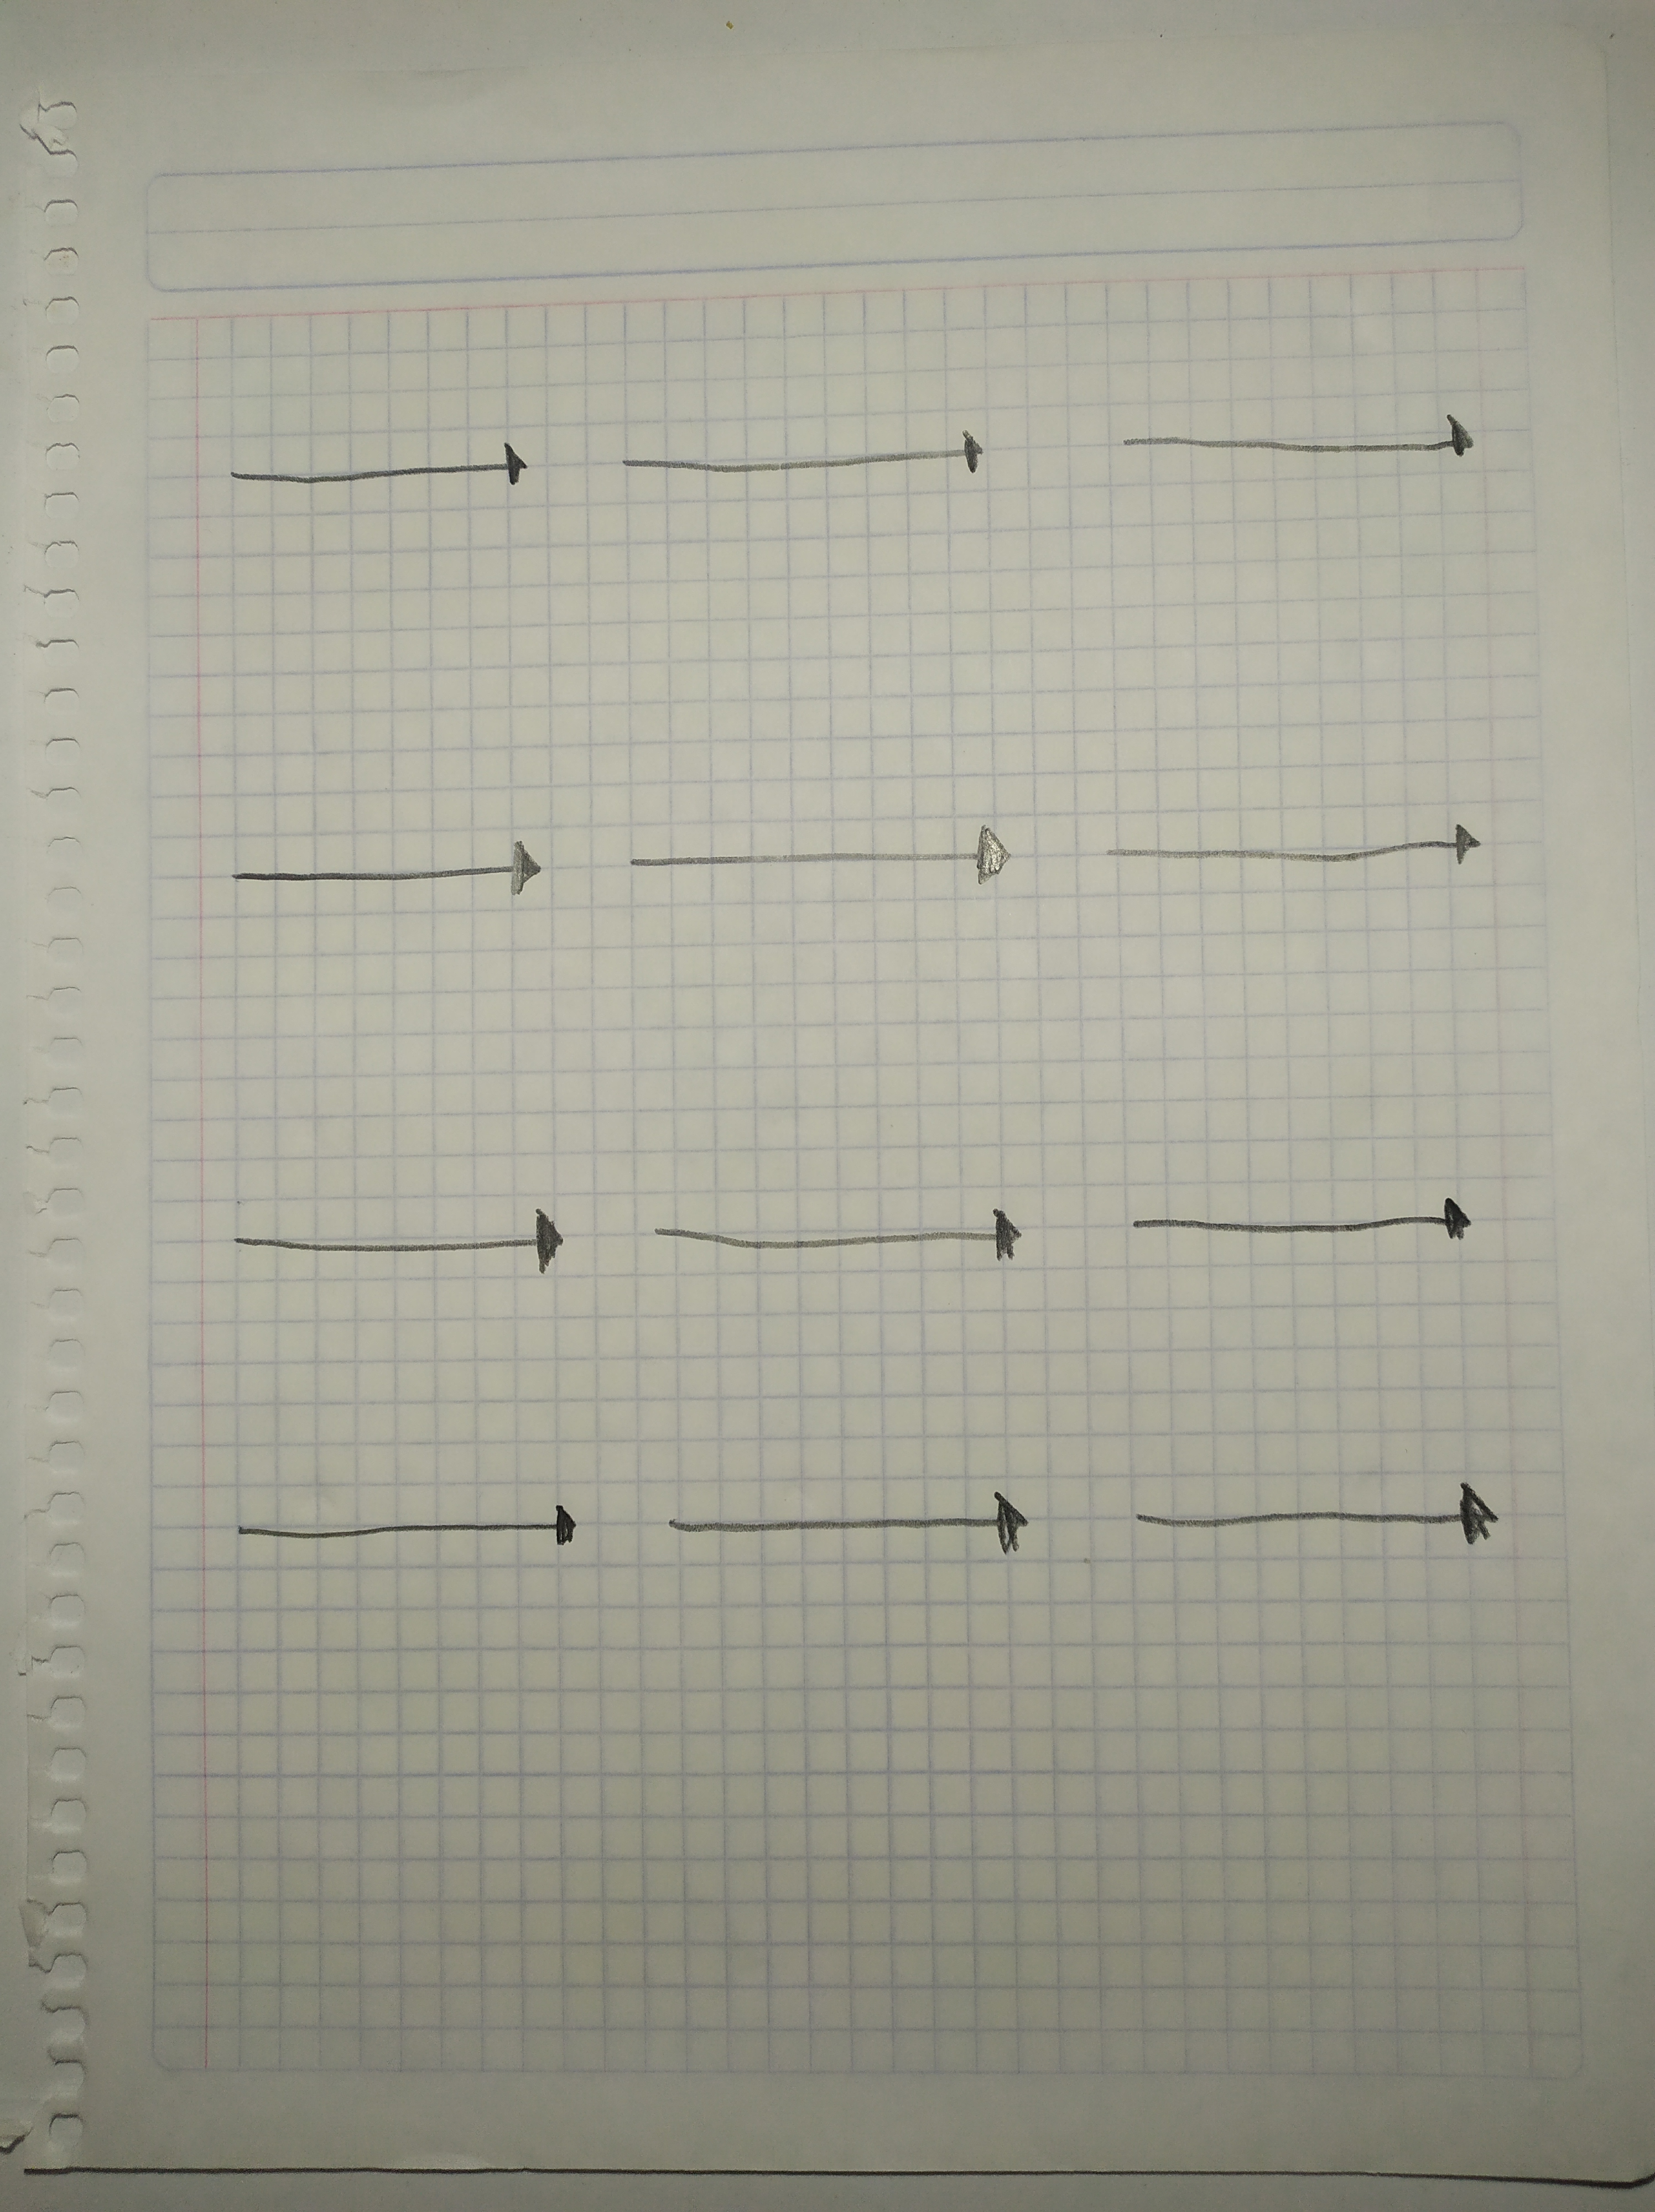arrow_line_right: (217, 1180, 600, 1308), (621, 1180, 1057, 1288), (216, 1474, 624, 1586), (647, 1477, 1067, 1585), (1085, 806, 1519, 897), (1099, 1180, 1512, 1274), (619, 813, 1052, 900), (593, 419, 1038, 500), (1106, 1477, 1545, 1557), (1095, 401, 1495, 487), (212, 836, 575, 919), (210, 431, 544, 514)
